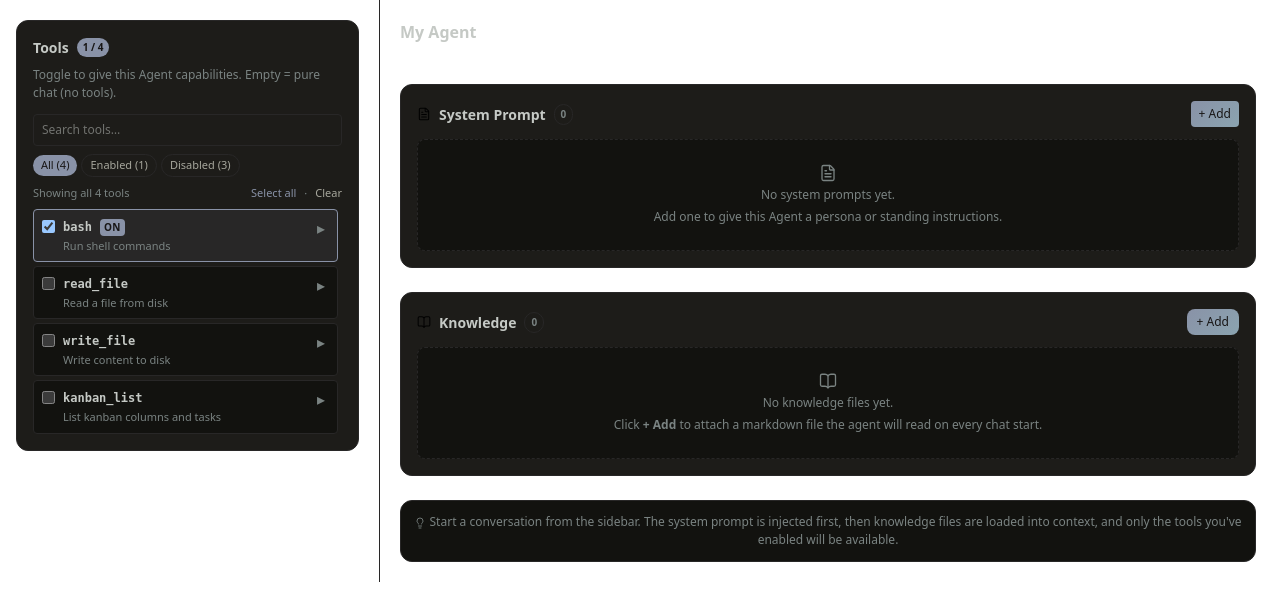
it: AgentView › enabled-state filter chips › Disabled chip narrows the list to disabled tools
The image size is (1273, 599).
Click the button with test id "agent-tools-filter-disabled".
click(200, 165)  # box [161,154,240,176]
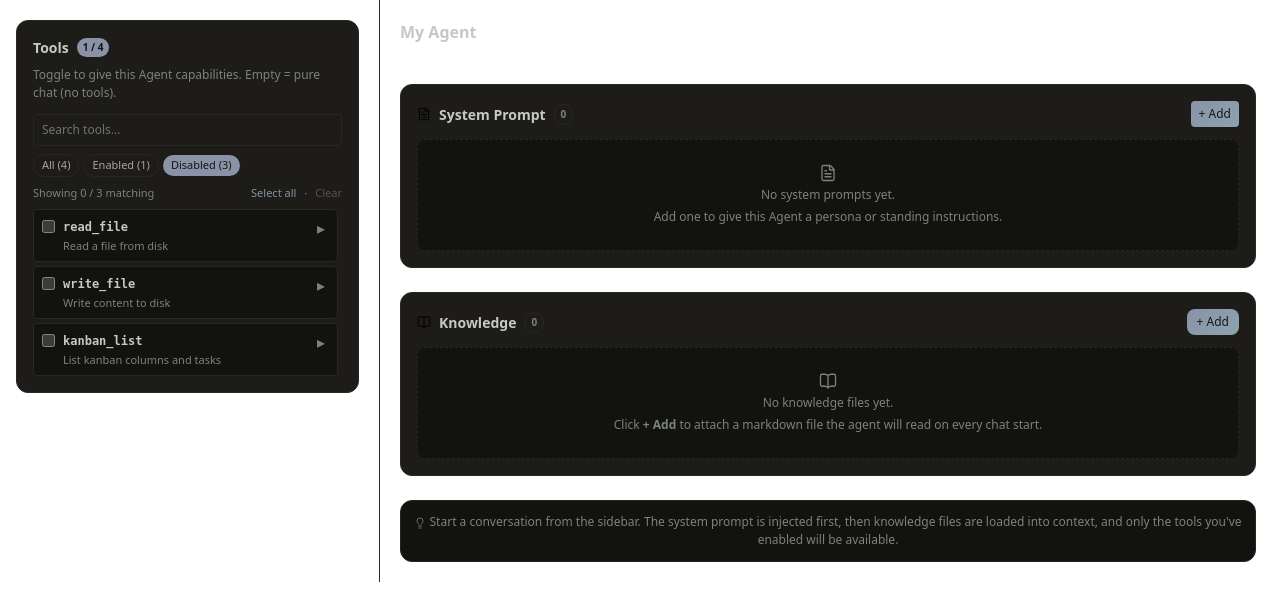
Result: the number of list items with test id "agent-tool-item" is 3 at [33,209,338,262]; [33,266,338,319]; [33,323,338,376]
Result: the text "bash" is gone
